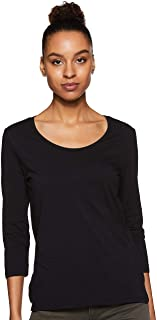tshirt: (1, 106, 153, 312)
